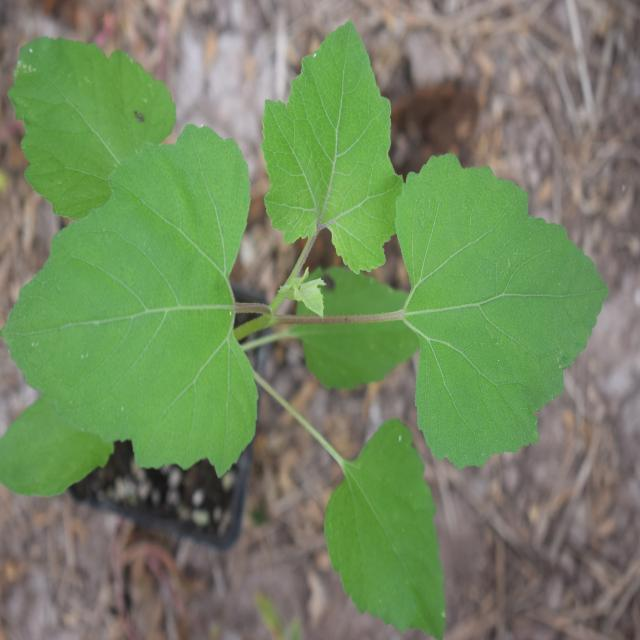cocklebur: (13, 35, 617, 627)
